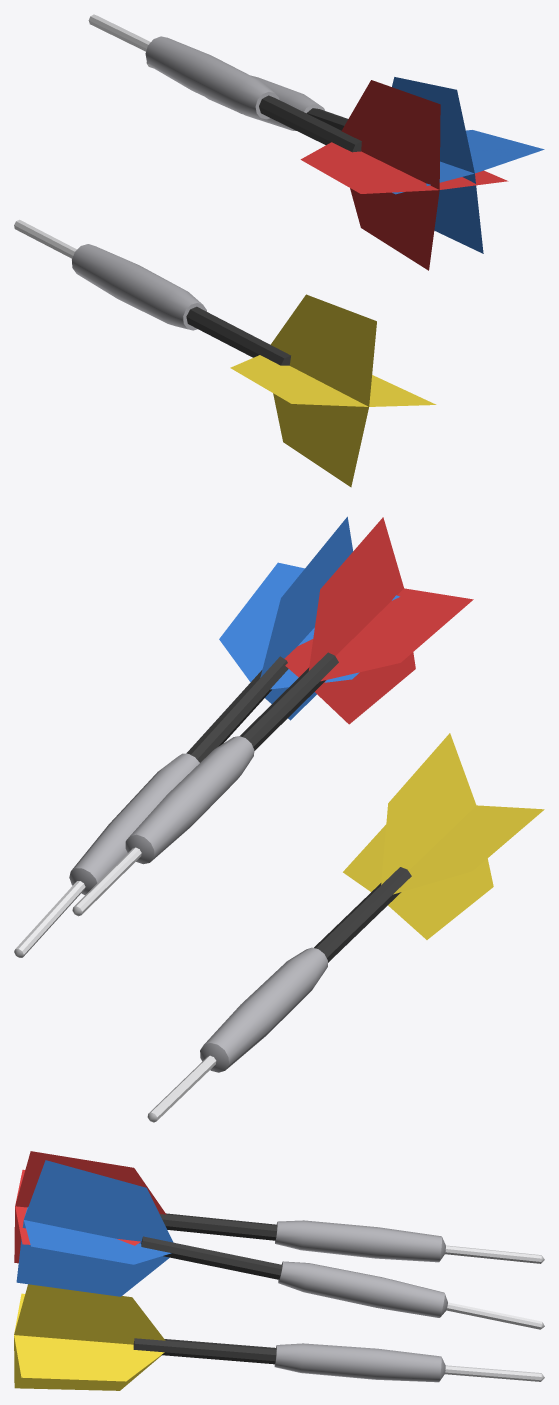
File: board_darts.glb
The picture shows the model from 3 angles, top to bottom: view 1: azimuth 30°, elevation 25°; view 2: azimuth 150°, elevation 25°; view 3: azimuth 270°, elevation 25°; orthographic projection. The views are drawn at different scales.
Parts seen in each view (by area): view 1: Flight 2, Flight 0, Tungsten, Flight 1, Dart shaft, Dart tip; view 2: Flight 2, Flight 0, Tungsten, Flight 1, Dart shaft, Dart tip; view 3: Flight 1, Tungsten, Flight 2, Dart shaft, Flight 0, Dart tip.
Part boxes in pixels (x1=…): Flight 2: x1=230, y1=294, x2=436, y2=487; Flight 0: x1=300, y1=80, x2=508, y2=270; Tungsten: x1=72, y1=36, x2=324, y2=330; Flight 1: x1=392, y1=77, x2=544, y2=253; Dart shaft: x1=186, y1=95, x2=361, y2=365; Dart tip: x1=14, y1=14, x2=153, y2=258; Flight 2: x1=343, y1=733, x2=544, y2=939; Flight 0: x1=284, y1=517, x2=473, y2=724; Tungsten: x1=69, y1=736, x2=327, y2=1072; Flight 1: x1=219, y1=516, x2=399, y2=720; Dart shaft: x1=186, y1=652, x2=411, y2=962; Dart tip: x1=14, y1=847, x2=216, y2=1122; Flight 1: x1=16, y1=1160, x2=173, y2=1296; Tungsten: x1=274, y1=1220, x2=447, y2=1382; Flight 2: x1=14, y1=1284, x2=165, y2=1390; Dart shaft: x1=133, y1=1213, x2=282, y2=1364; Flight 0: x1=14, y1=1151, x2=166, y2=1263; Dart tip: x1=445, y1=1245, x2=544, y2=1381.
Bounding box in the file's own units: 0.0625 × 0.082 × 0.1413.
